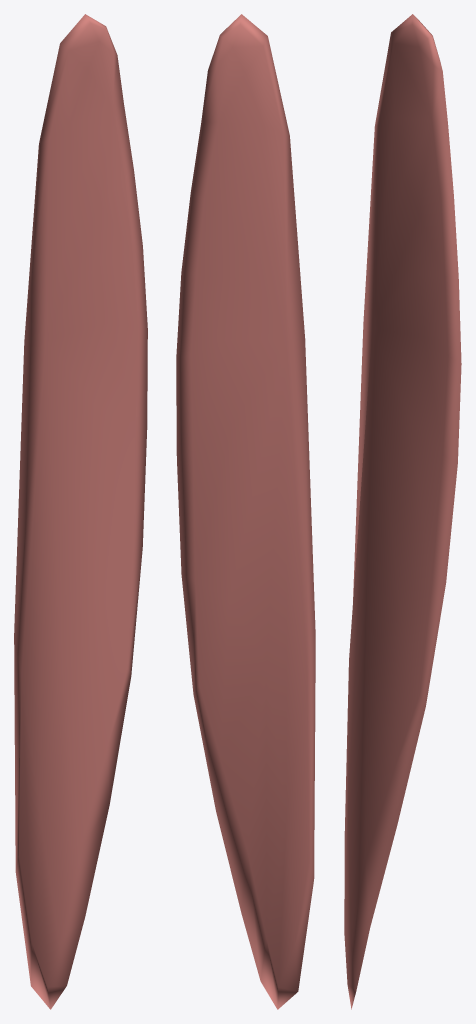
3 renders of one model, left to right at view 1: azimuth 30°, elevation 25°; view 2: azimuth 210°, elevation 25°; view 3: azimuth 330°, elevation 25°, orthographic. The views are drawn at different scales.
Parts seen in each view (by area): view 1: ZA_dd46ed14ec17e238; view 2: ZA_dd46ed14ec17e238; view 3: ZA_dd46ed14ec17e238.
Boxes of the visible parts, x1,y1,x2,y2 form: ZA_dd46ed14ec17e238: [14, 14, 147, 1009]; ZA_dd46ed14ec17e238: [176, 14, 315, 1009]; ZA_dd46ed14ec17e238: [344, 14, 461, 1009].
Size of the model in its own units: 0.00418 by 0.032 by 0.00164.
